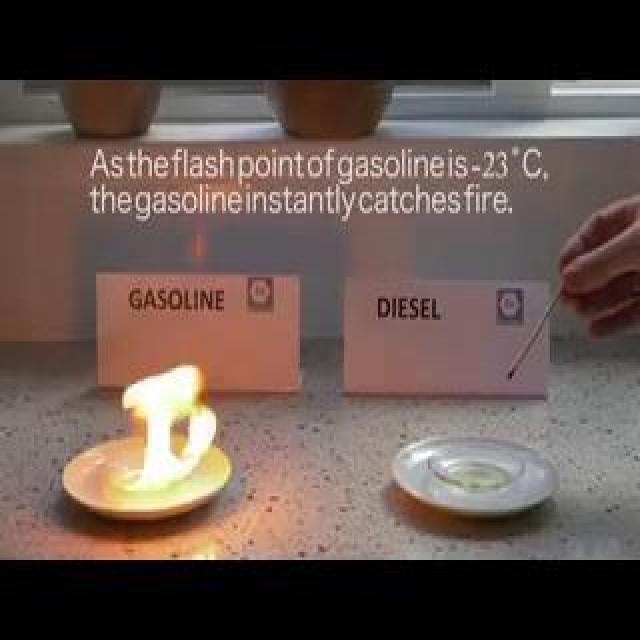Fire: (117, 304, 235, 499)
